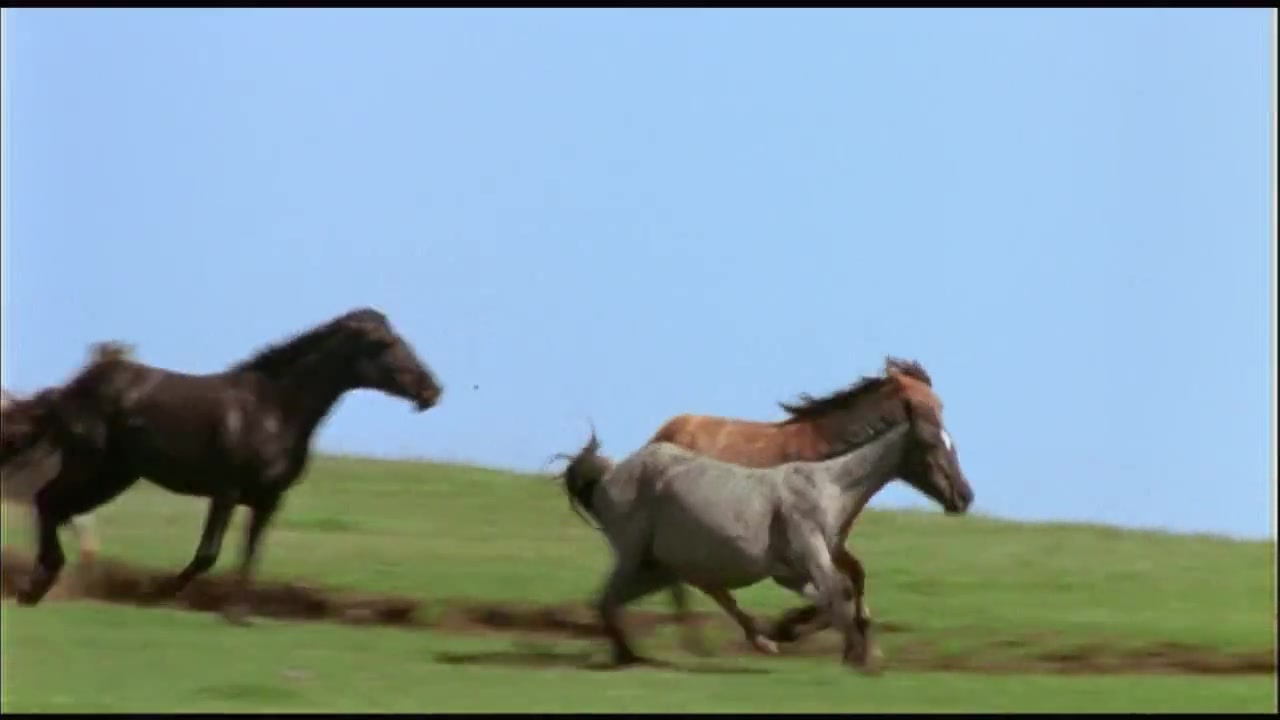horse: (562, 400, 976, 678)
